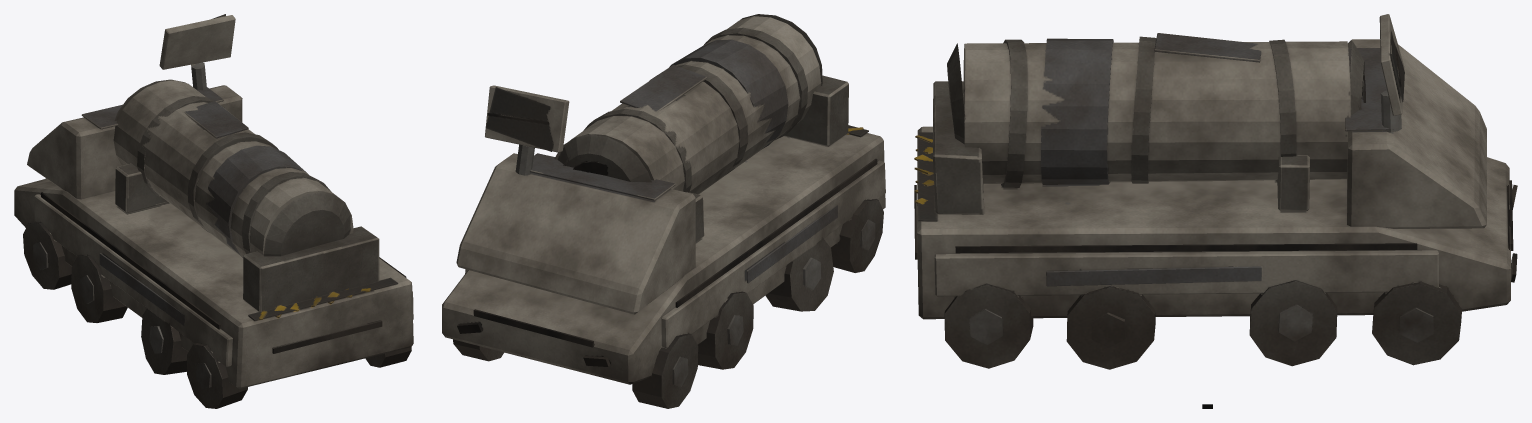
File: ord_custodian_wreck.fbx
3 views of the same model, side by side, from view 1: azimuth 30°, elevation 25°; view 2: azimuth 150°, elevation 25°; view 3: azimuth 270°, elevation 25° (orthographic). The views are drawn at different scales.
Parts seen in each view (by area): view 1: base_bar, launcher_bar, radar_bar, wheelL2_bar, wheelL4_bar, wheelL1_bar, wheelL3_bar, wheelR4_bar; view 2: base_bar, launcher_bar, radar_bar, wheelL1_bar, wheelL3_bar, wheelL2_bar, wheelL4_bar, wheelR1_bar; view 3: base_bar, launcher_bar, wheelR1_bar, wheelR2_bar, wheelR3_bar, wheelR4_bar, radar_bar.
Boxes of the visible parts, x1,y1,x2,y2 form: base_bar: [14, 62, 413, 388]; launcher_bar: [113, 79, 353, 257]; radar_bar: [159, 14, 235, 69]; wheelL2_bar: [71, 254, 127, 322]; wheelL4_bar: [187, 343, 247, 408]; wheelL1_bar: [23, 221, 71, 289]; wheelL3_bar: [141, 308, 188, 374]; wheelR4_bar: [365, 347, 411, 367]; base_bar: [442, 75, 885, 384]; launcher_bar: [554, 14, 822, 194]; radar_bar: [485, 85, 569, 152]; wheelL1_bar: [632, 333, 698, 408]; wheelL3_bar: [765, 237, 833, 311]; wheelL2_bar: [698, 291, 753, 369]; wheelL4_bar: [831, 199, 883, 272]; wheelR1_bar: [453, 339, 503, 361]; base_bar: [914, 39, 1517, 319]; launcher_bar: [947, 33, 1365, 187]; wheelR1_bar: [1372, 281, 1461, 365]; wheelR2_bar: [1249, 280, 1337, 366]; wheelR3_bar: [1066, 285, 1155, 369]; wheelR4_bar: [944, 283, 1033, 368]; radar_bar: [1379, 14, 1404, 115].
Bounding box in the file's own units: 547 × 826 × 1114.
Materials: 2 (2 with a texture image).
